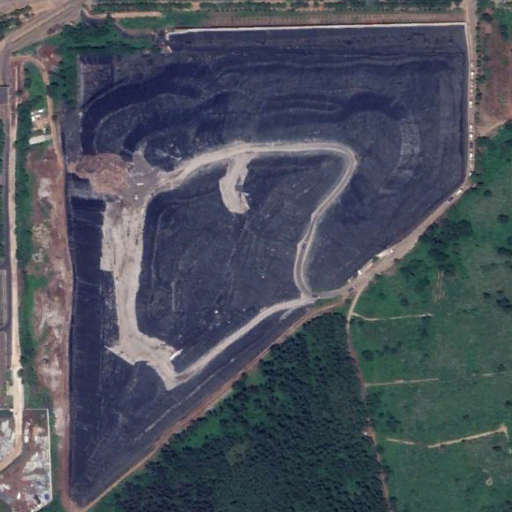lf: (62, 24, 468, 510)
